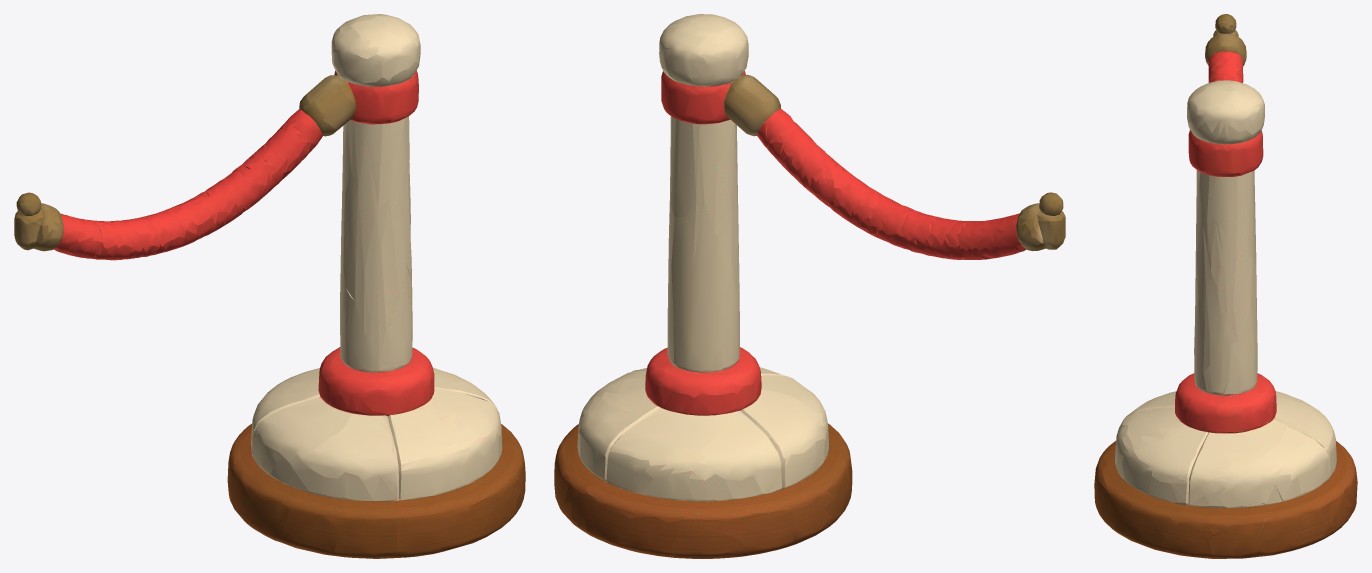
The model's file is restaurant-restaurant-queue-rope-post-streamline-normal.glb.
3 views of the same model, side by side, from view 1: azimuth 30°, elevation 25°; view 2: azimuth 150°, elevation 25°; view 3: azimuth 270°, elevation 25° (orthographic). The views are drawn at different scales.
Parts seen in each view (by area): view 1: Mesh_0; view 2: Mesh_0; view 3: Mesh_0.
Part boxes in pixels (x1,y1,x2,y2): Mesh_0: [14, 14, 525, 558]; Mesh_0: [554, 14, 1065, 558]; Mesh_0: [1094, 14, 1357, 558].
Bounding box in the file's own units: 0.85 × 0.796 × 0.4511.
1 material, 1 textured.
